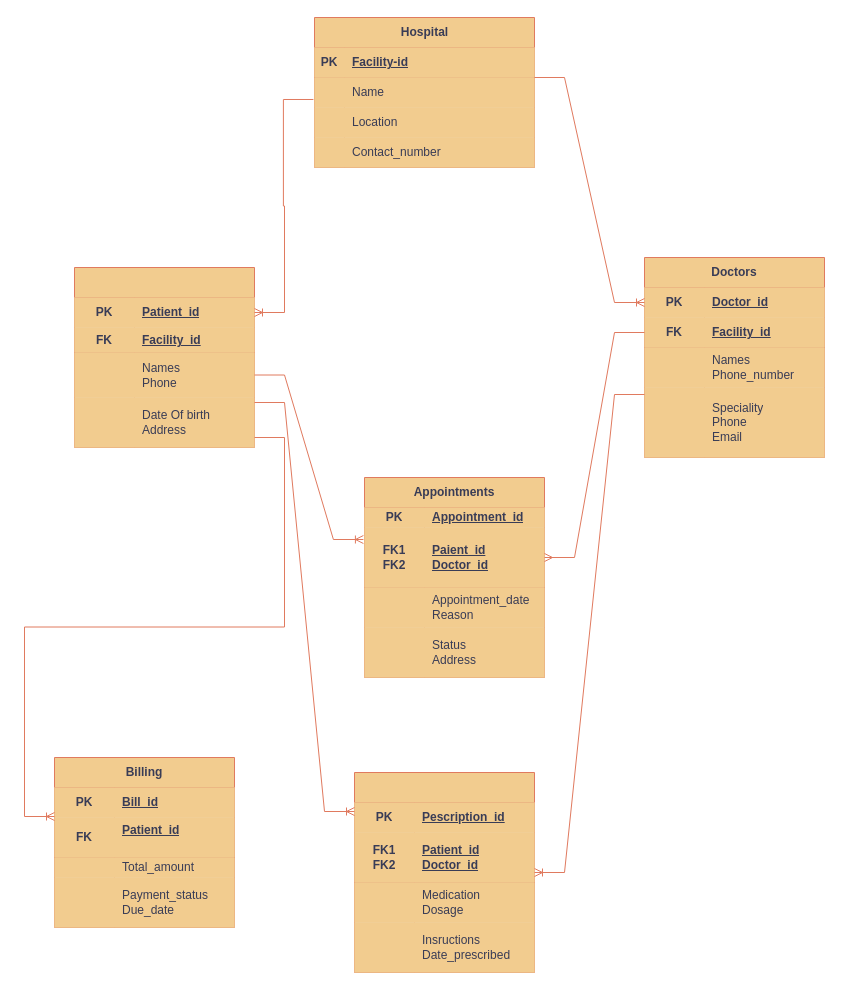
The diagram is 842 pixels wide and 990 high, and some of its shapes have lost their labels. Each missing label, with the box of its shape:
Patients: (74, 266, 254, 448)
Prescriptions: (354, 772, 534, 972)
